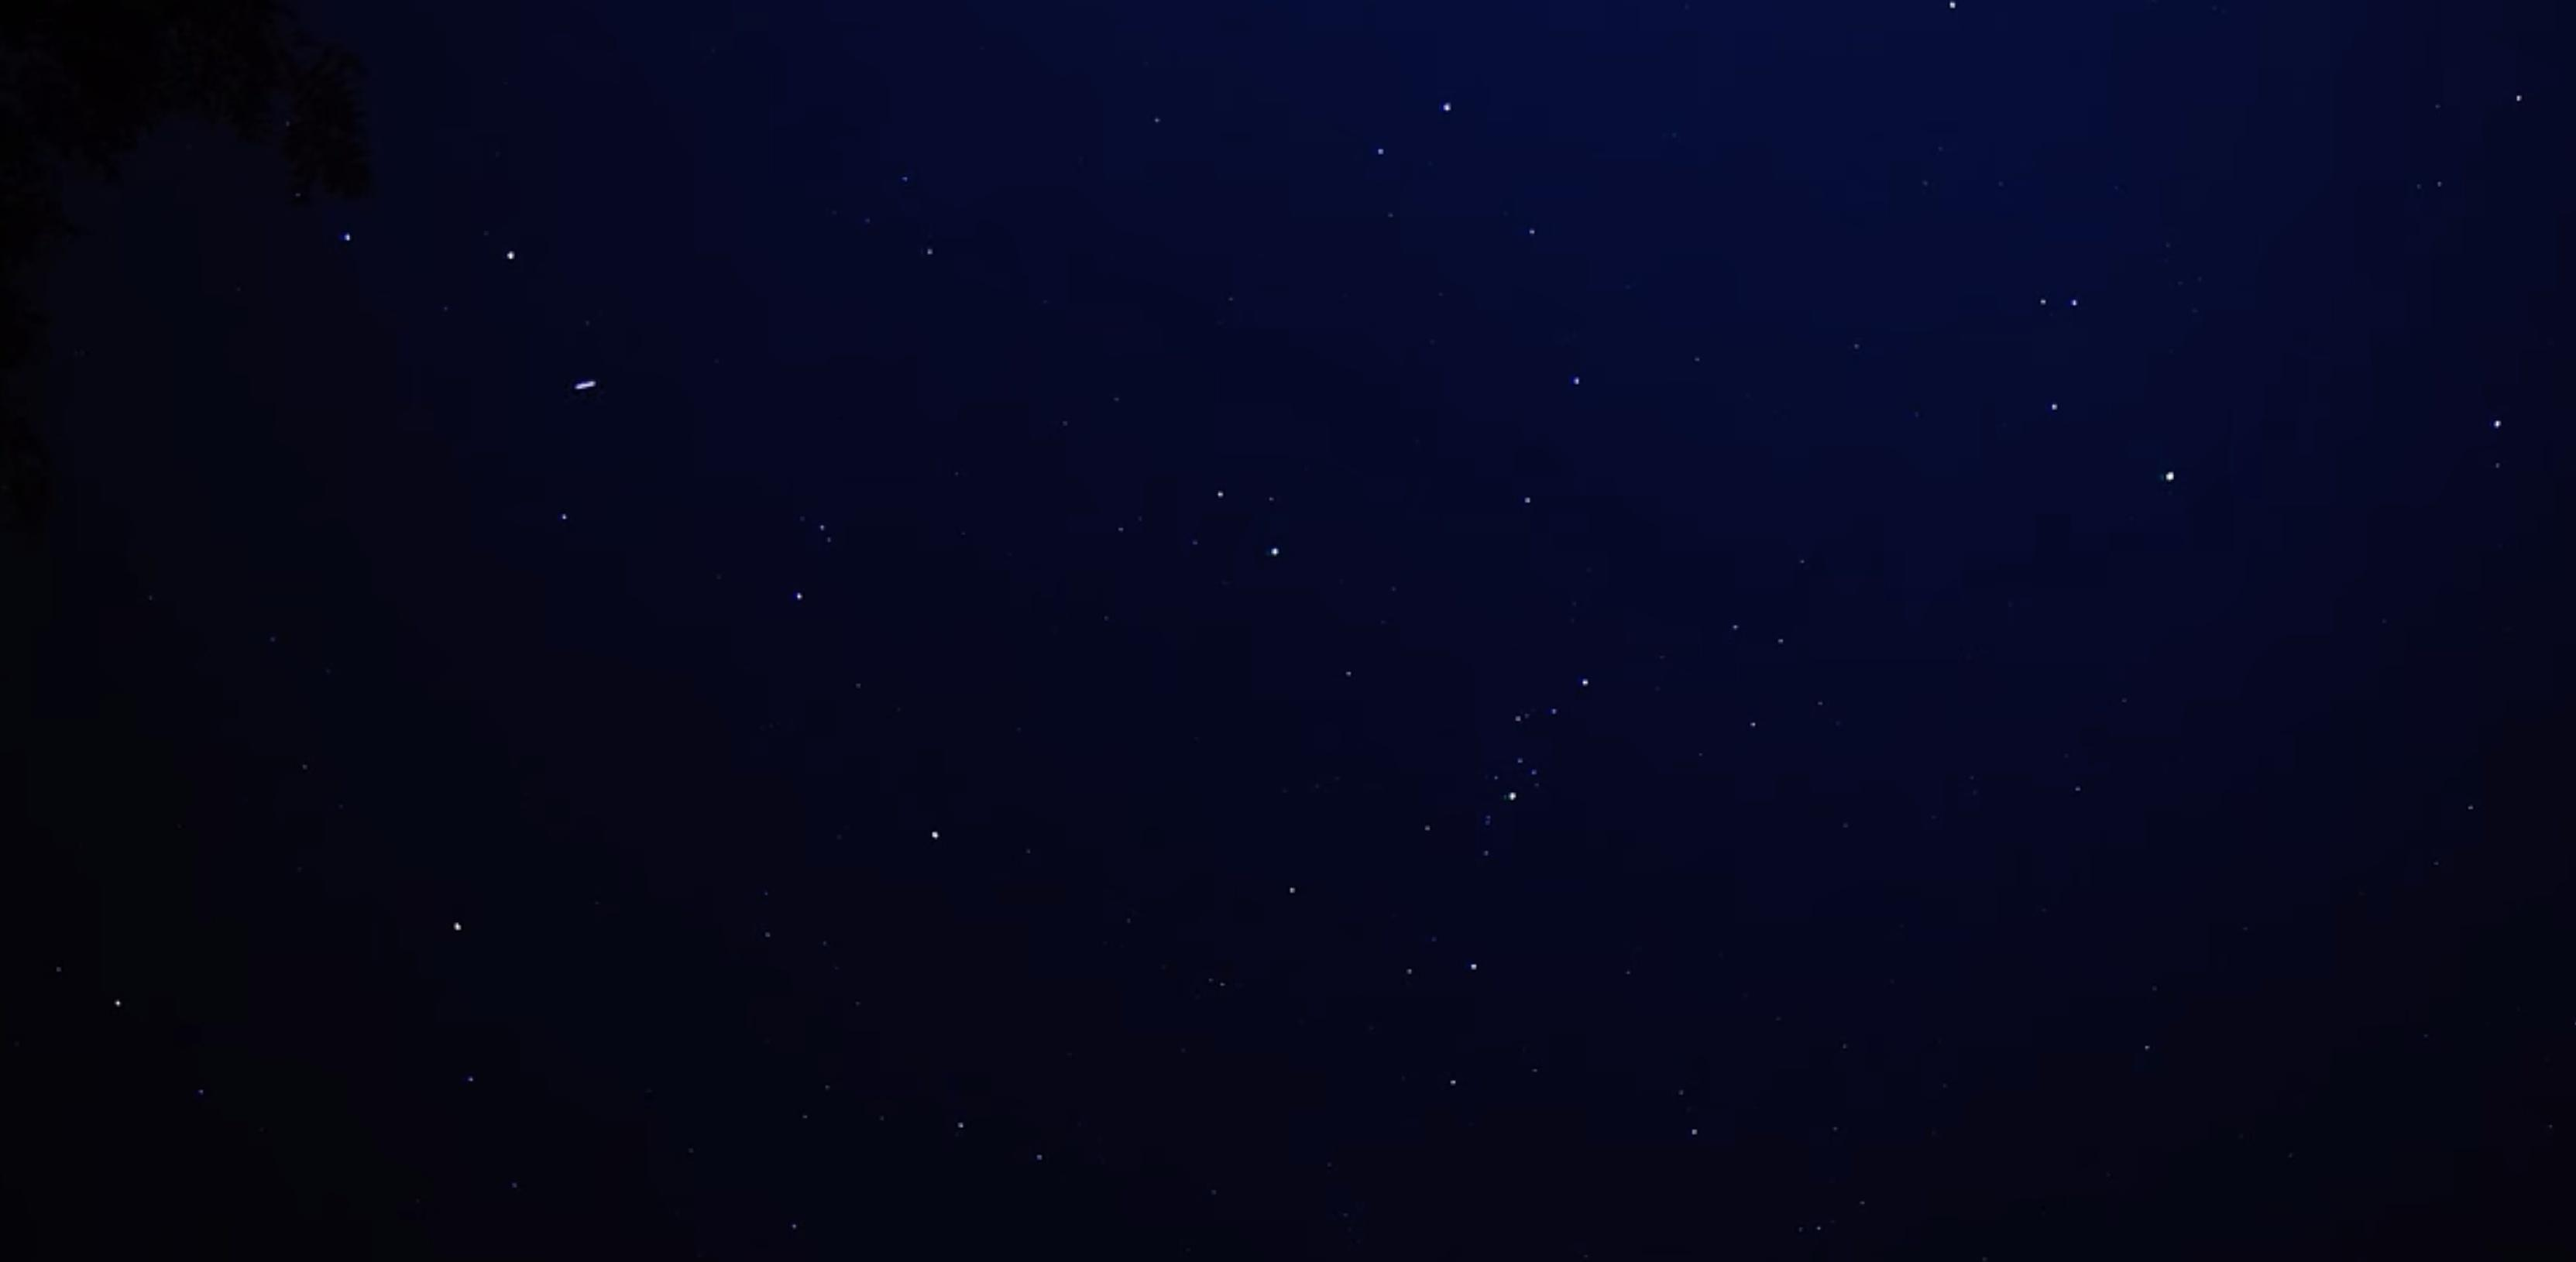meteorite: (554, 363, 619, 403)
